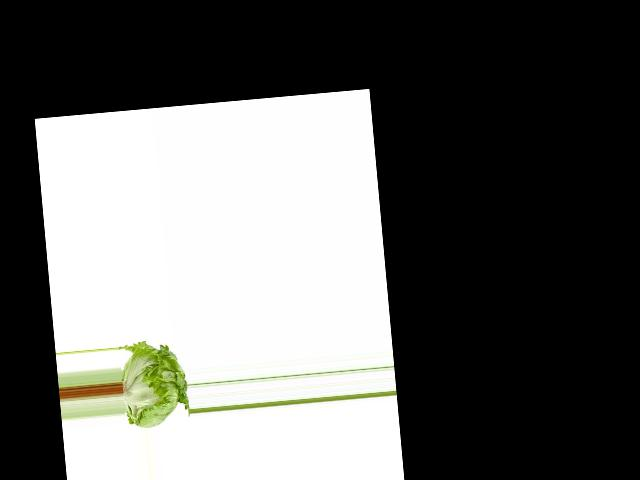lettuce: (117, 334, 190, 432)
